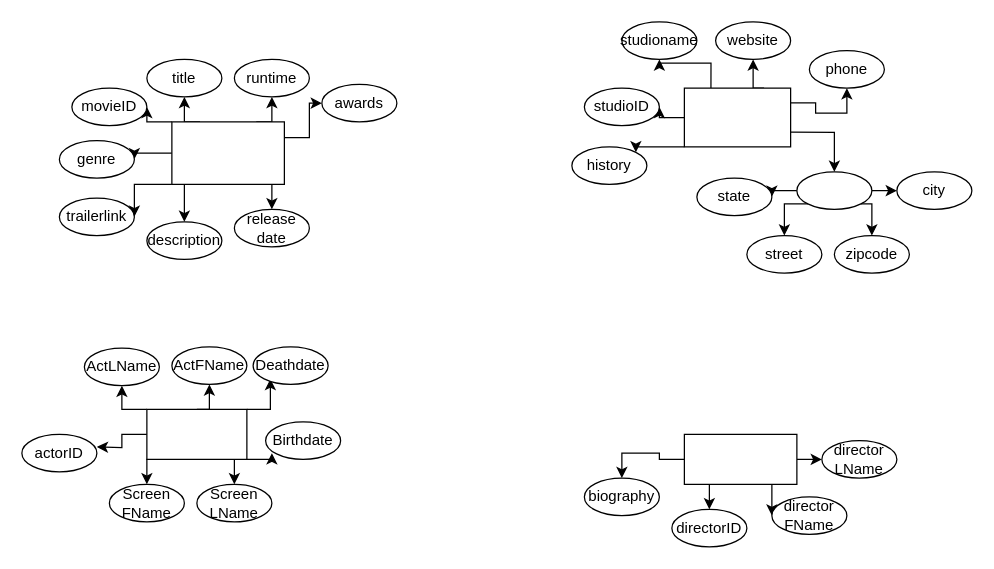
This 994x569 diagram has some shape labels left out. Each missing label, with the centre of its shape:
"actor" goes at [196,433].
"address" goes at [834,190].
"director" goes at [740,458].
"movies" goes at [227,152].
"studio" goes at [737,117].
